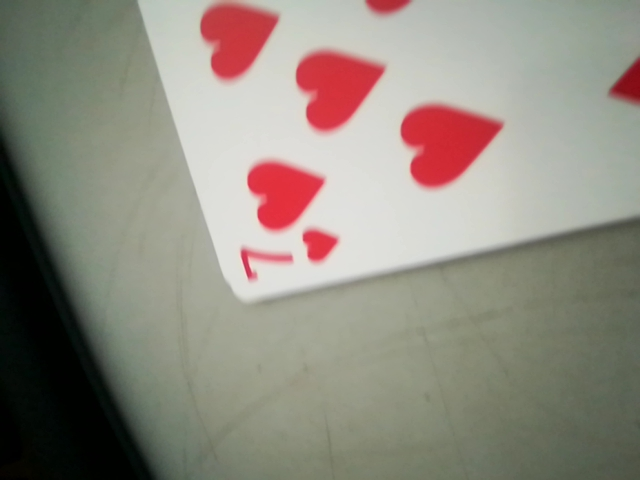hx 7: (235, 224, 350, 300)
